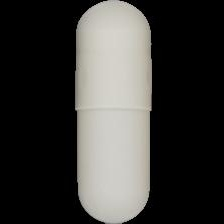54868-5771: (0, 0, 224, 224)
